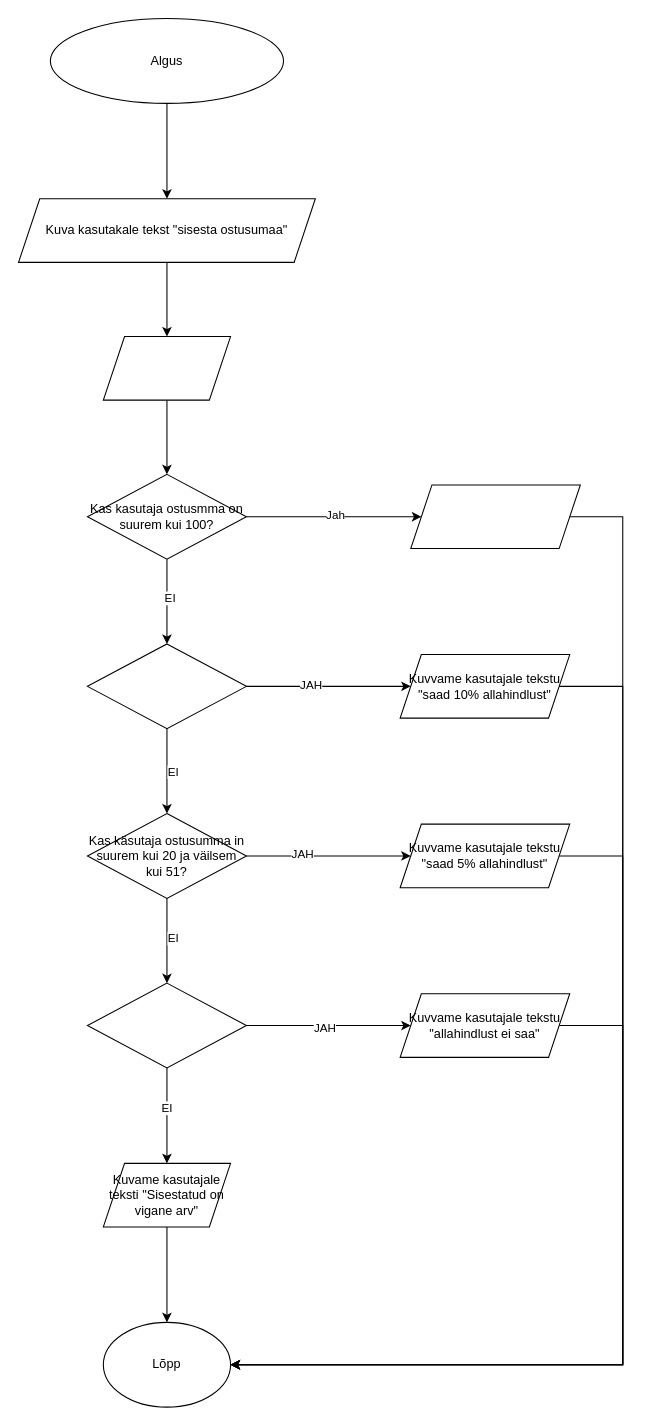
The diagram is 650 pixels wide and 1426 high, and some of its shapes have lost their labels. Here are the shapes that lost their labels. From the top down, the box of each, then its label:
(102, 335, 231, 400): tekitame muutuja "ostusumma" mille sisse loena väärtuse kasutajalt
(410, 484, 580, 549): Kuvvame kasutajale tekstu "saad 20% allahindlust"
(86, 643, 246, 729): Kas käsutaja ostusumma in suurem kui 50 ja väilsem kui 101?
(86, 982, 246, 1068): Kas käsutaja ostusumma in suurem kui 0 ja väilsem kui 21?
